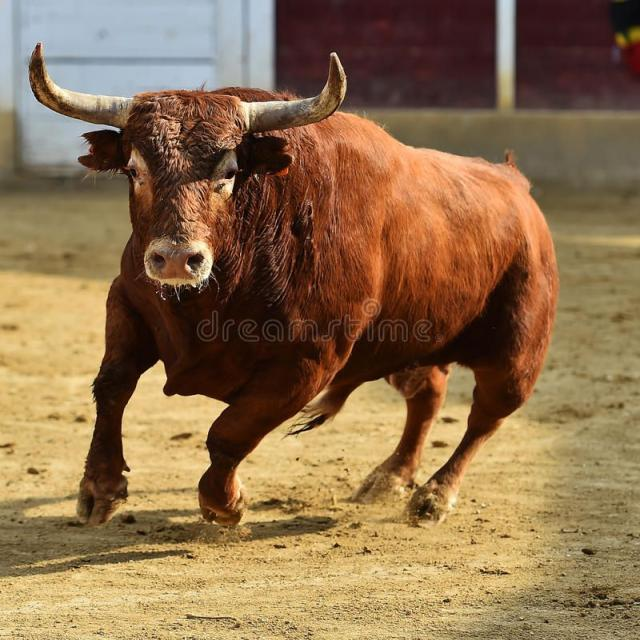cowFace: (22, 34, 354, 304)
